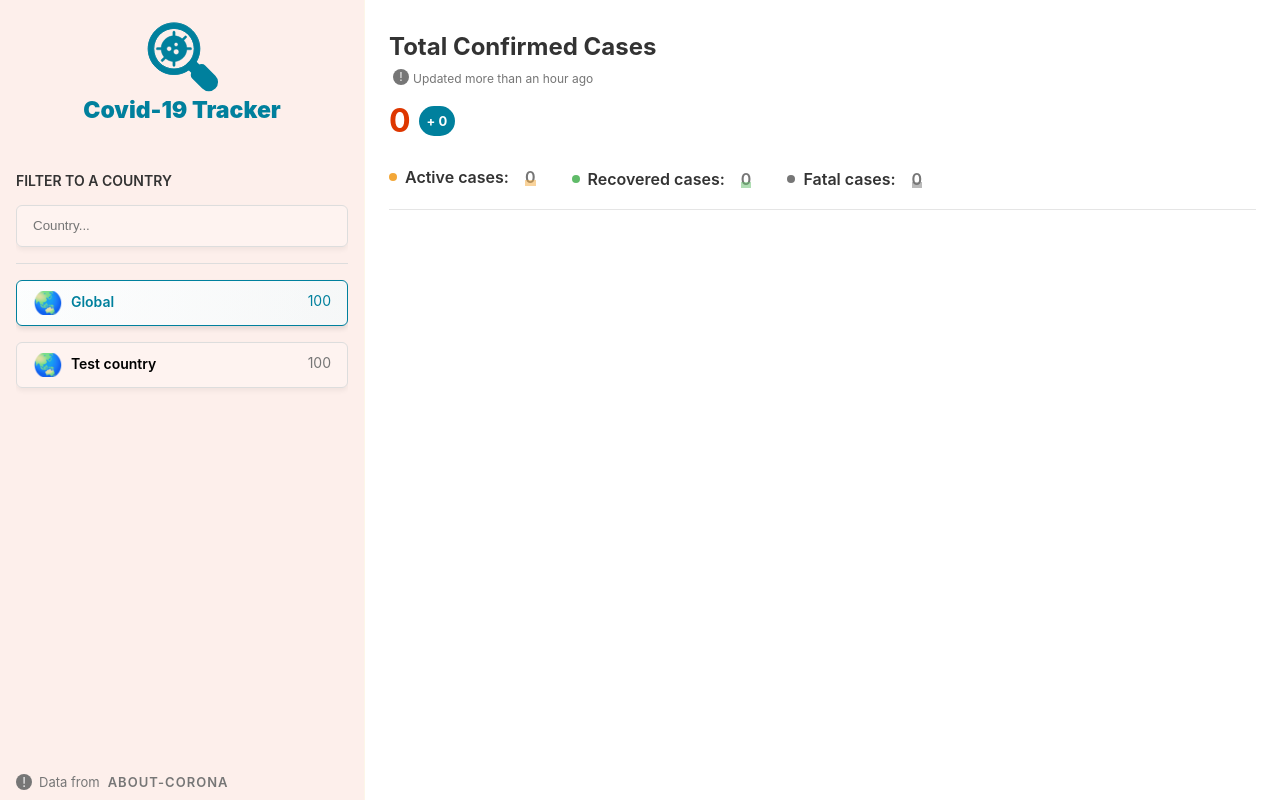
should fileter country correctly
The image size is (1280, 800).
In the field with placeholder "Country...": (182,226) [16,205,348,247], type "test"
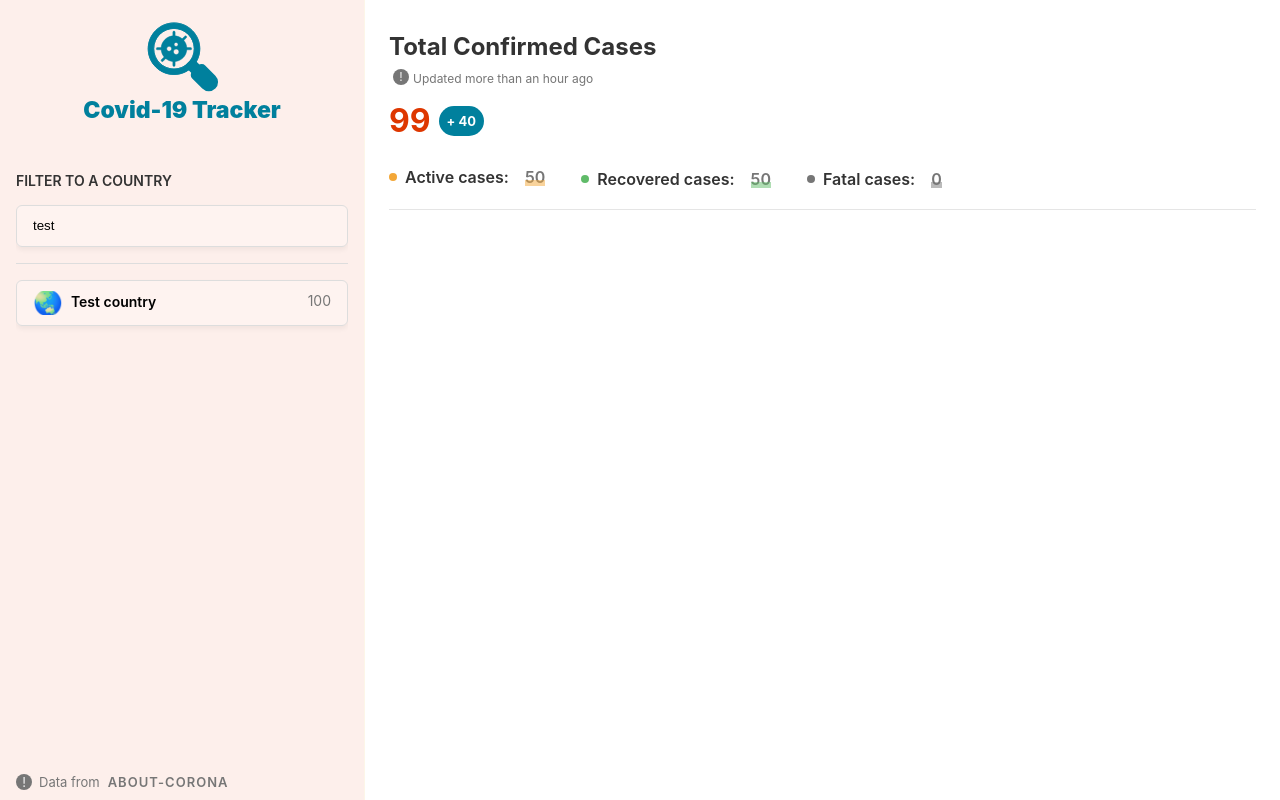
expect the text "Test country" is shown: met, box [71,293,156,310]
expect the number of pictures is 1: met, box [33,291,63,315]
